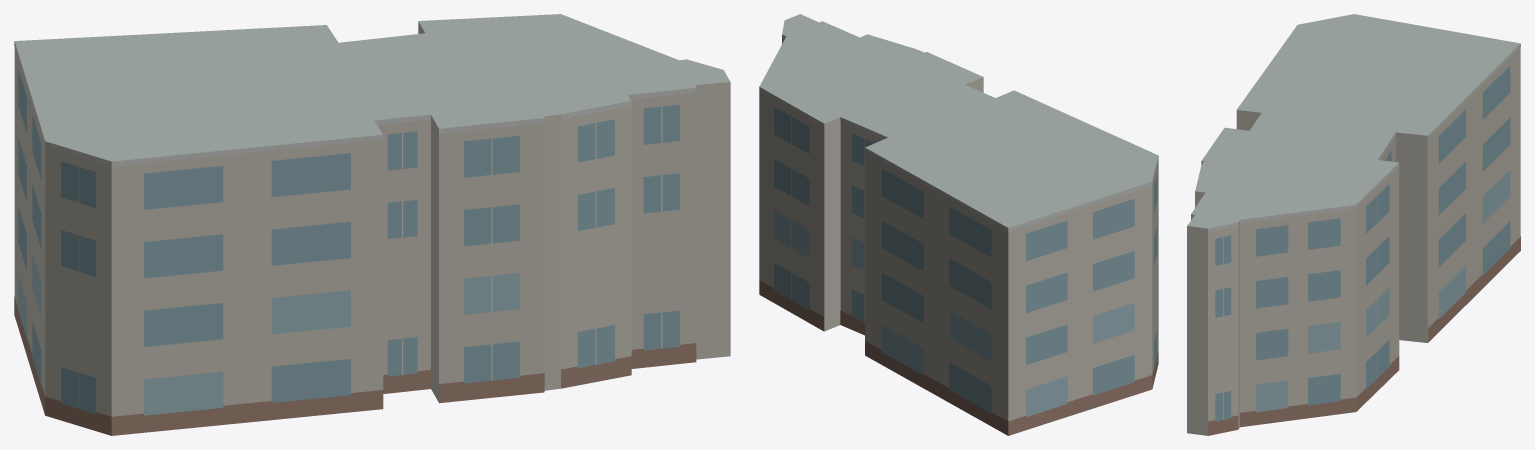
Rendered from survey-upis-32625392.glb.
3 views of the same model, side by side, from view 1: azimuth 30°, elevation 25°; view 2: azimuth 150°, elevation 25°; view 3: azimuth 270°, elevation 25° (orthographic). The views are drawn at different scales.
Parts seen in each view (by area): view 1: survey-upis-32625392.tmp; view 2: survey-upis-32625392.tmp; view 3: survey-upis-32625392.tmp.
Boxes of the visible parts, <box> form: survey-upis-32625392.tmp: <box>14,14,730,435</box>; survey-upis-32625392.tmp: <box>759,14,1158,435</box>; survey-upis-32625392.tmp: <box>1187,14,1520,435</box>.
Bounding box in the file's own units: 29.11 × 13.11 × 19.13.
